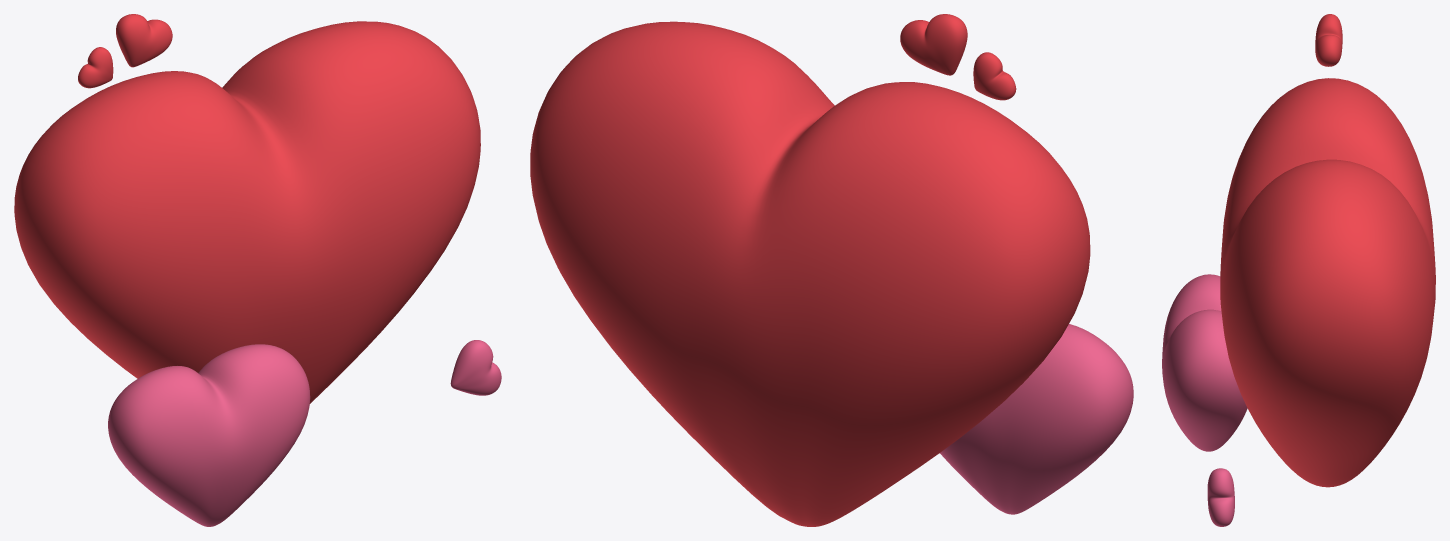
Rendered from 19 Hearts.glb.
The picture shows the model from 3 angles, left to right: view 1: azimuth 30°, elevation 25°; view 2: azimuth 150°, elevation 25°; view 3: azimuth 270°, elevation 25°; orthographic projection. The views are drawn at different scales.
Parts seen in each view (by area): view 1: Cube, Cube.002, Cube.003, Cube.005, Cube.001; view 2: Cube, Cube.002, Cube.003, Cube.001; view 3: Cube, Cube.002, Cube.005, Cube.003.
Boxes of the visible parts, x1=… form: Cube: x1=14, y1=21, x2=480, y2=403; Cube.002: x1=108, y1=344, x2=310, y2=526; Cube.003: x1=116, y1=14, x2=172, y2=67; Cube.005: x1=450, y1=340, x2=501, y2=395; Cube.001: x1=78, y1=47, x2=113, y2=88; Cube: x1=530, y1=21, x2=1090, y2=526; Cube.002: x1=940, y1=324, x2=1133, y2=514; Cube.003: x1=900, y1=14, x2=967, y2=75; Cube.001: x1=973, y1=52, x2=1016, y2=100; Cube: x1=1220, y1=78, x2=1435, y2=487; Cube.002: x1=1162, y1=274, x2=1247, y2=451; Cube.005: x1=1207, y1=468, x2=1234, y2=526; Cube.003: x1=1315, y1=14, x2=1342, y2=66.
Bounding box in the file's own units: 1.28 × 1.3 × 0.7537.
